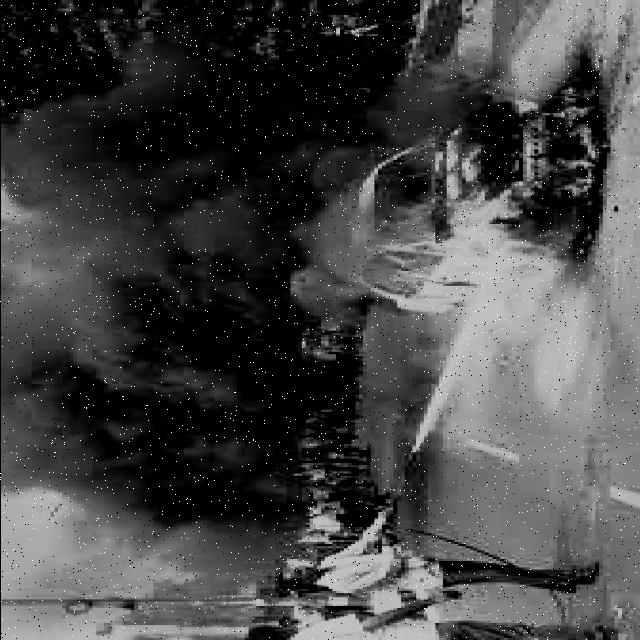api: (294, 50, 618, 319)
